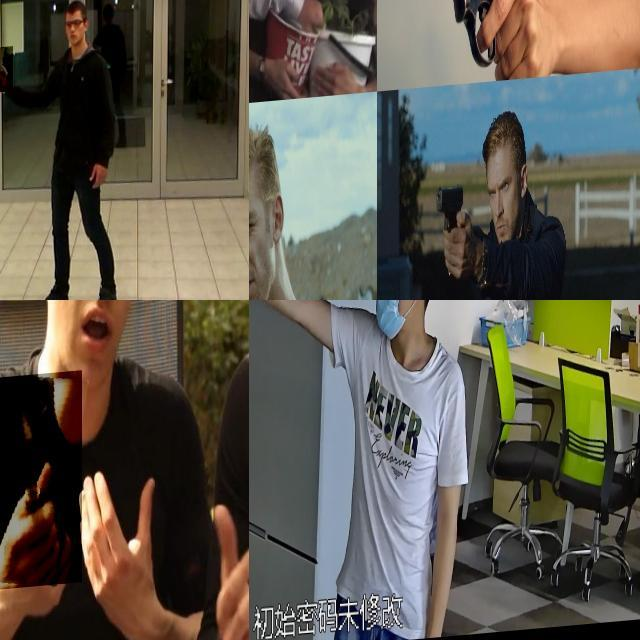-: (0, 373, 81, 592)
gun-knife-thesis - v11 Yolov5 augmented: (405, 0, 519, 94), (249, 0, 282, 95), (433, 188, 465, 284), (249, 199, 278, 300), (249, 300, 280, 351), (0, 51, 14, 98)
